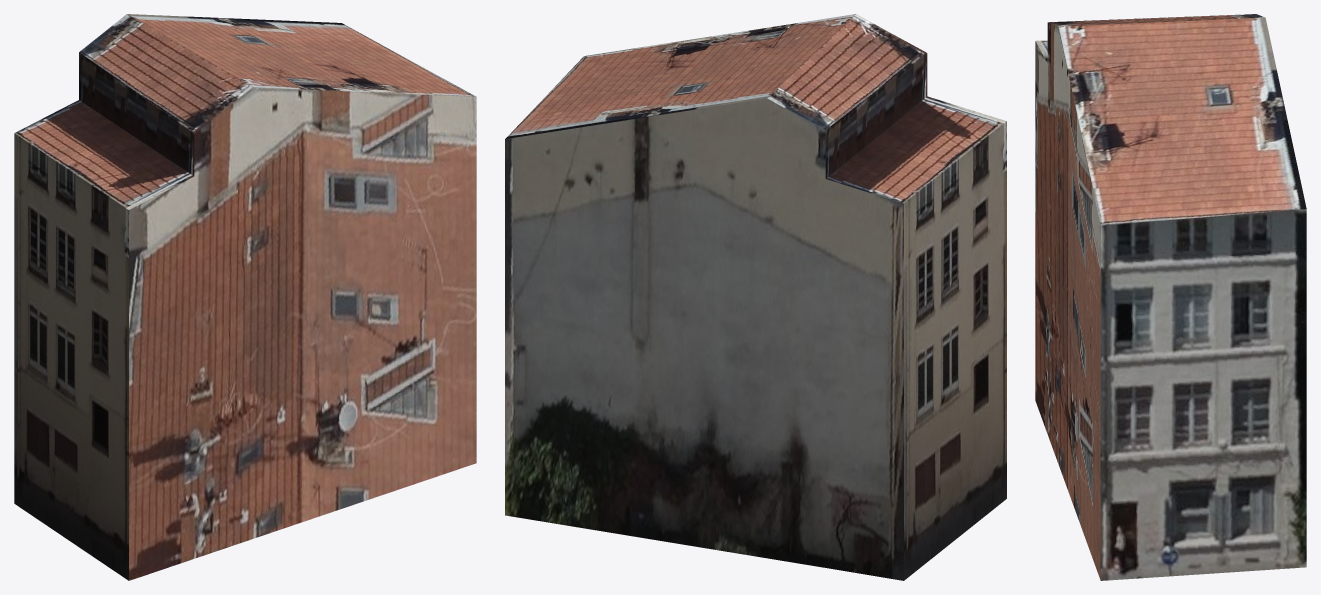
3 renders of one model, left to right at view 1: azimuth 30°, elevation 25°; view 2: azimuth 150°, elevation 25°; view 3: azimuth 270°, elevation 25°, orthographic. The views are drawn at different scales.
Parts seen in each view (by area): view 1: Z_UP; view 2: Z_UP; view 3: Z_UP.
Part boxes in pixels (x1,y1,x2,y2): Z_UP: (14, 14, 476, 580); Z_UP: (505, 14, 1006, 580); Z_UP: (1035, 14, 1306, 580).
Bounding box in the file's own units: 15.05 × 16.73 × 9.39.
Materials: 2 (1 with a texture image).
